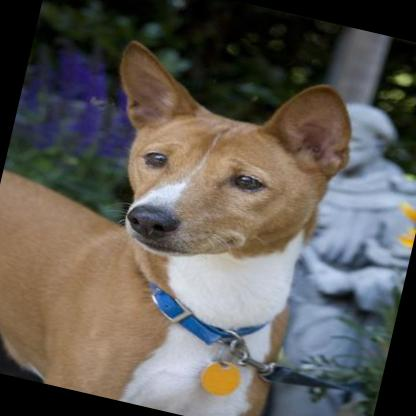basenji: (0, 15, 365, 416)
